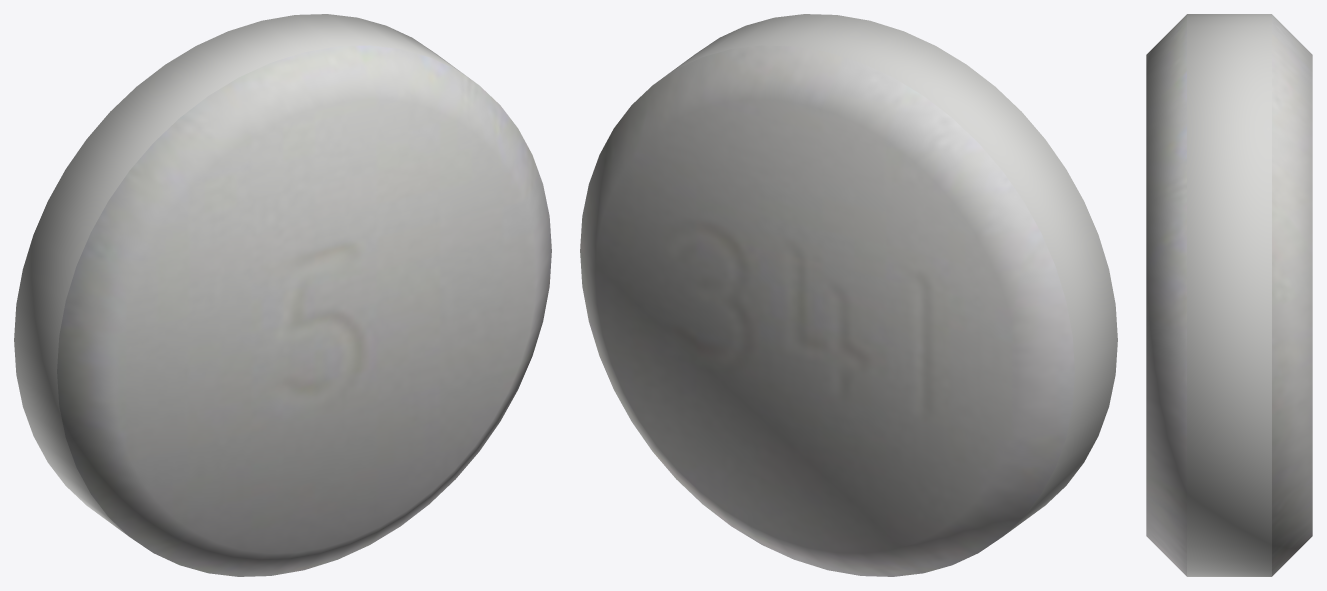
Rendered from 20140311GOPHDRGPT02250.fbx.
3 views of the same model, side by side, from view 1: azimuth 30°, elevation 25°; view 2: azimuth 150°, elevation 25°; view 3: azimuth 270°, elevation 25° (orthographic).
Parts seen in each view (by area): view 1: 貝茲圓; view 2: 貝茲圓; view 3: 貝茲圓.
Boxes of the visible parts, <box> form: 貝茲圓: <box>14,14,551,576</box>; 貝茲圓: <box>580,14,1117,576</box>; 貝茲圓: <box>1146,14,1312,576</box>.
Size of the model in its own units: 0.6946 by 0.6946 by 0.2053.
